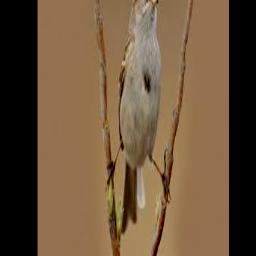Sparrow: (107, 0, 171, 232)
